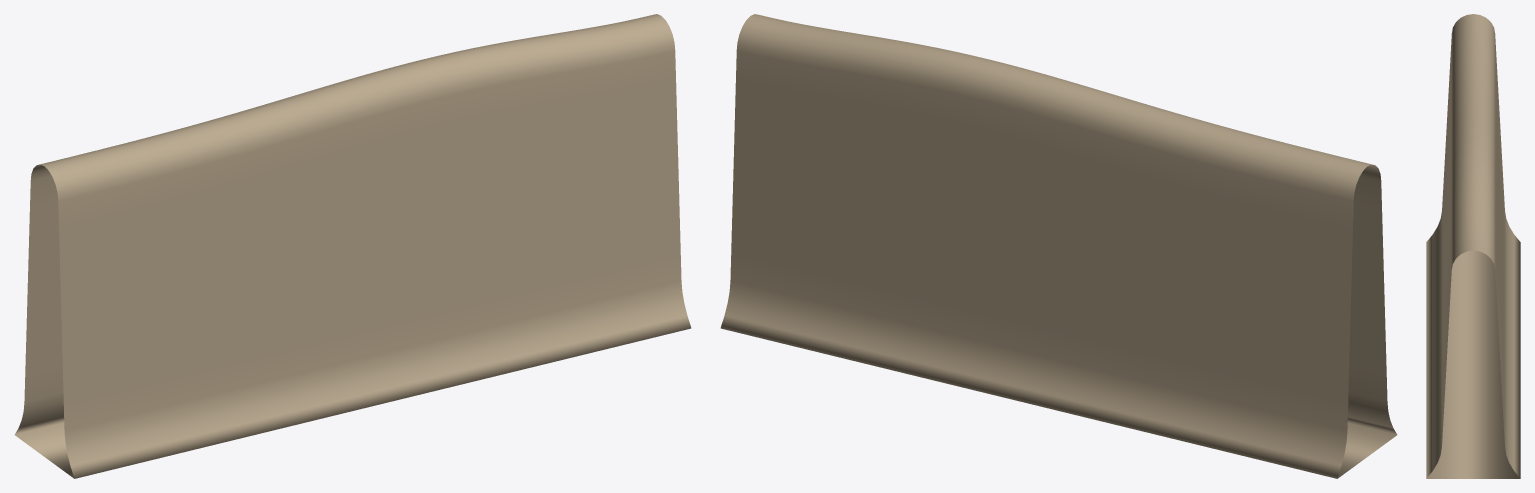
File: KFB_Wall_straight_long.r4.glb
The picture shows the model from 3 angles, left to right: view 1: azimuth 30°, elevation 25°; view 2: azimuth 150°, elevation 25°; view 3: azimuth 270°, elevation 25°; orthographic projection. The views are drawn at different scales.
Visible parts, largest first — view 1: KFB_Wall_straight_long; view 2: KFB_Wall_straight_long; view 3: KFB_Wall_straight_long.
Boxes of the visible parts, left/top/right/bottom form: KFB_Wall_straight_long: left=14, top=14, right=691, bottom=478; KFB_Wall_straight_long: left=720, top=14, right=1397, bottom=478; KFB_Wall_straight_long: left=1426, top=14, right=1520, bottom=478.
Bounding box in the file's own units: 8 × 3.75 × 1.35.
